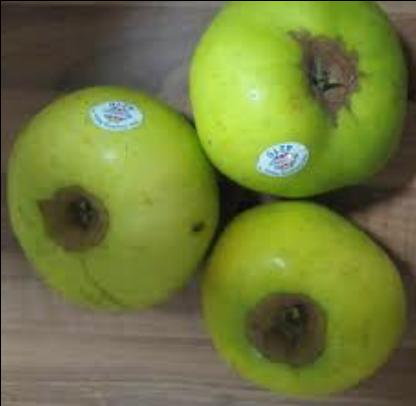defect: (233, 274, 337, 376), (284, 17, 366, 135), (34, 152, 116, 270)
